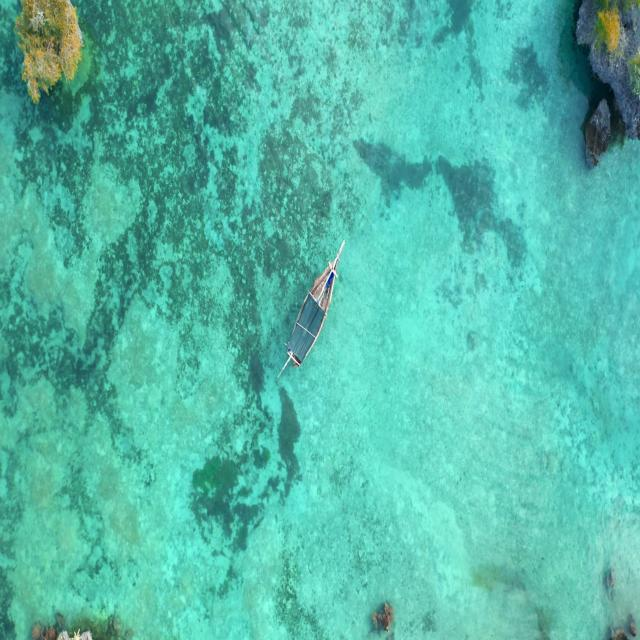ship: (284, 236, 348, 378)
